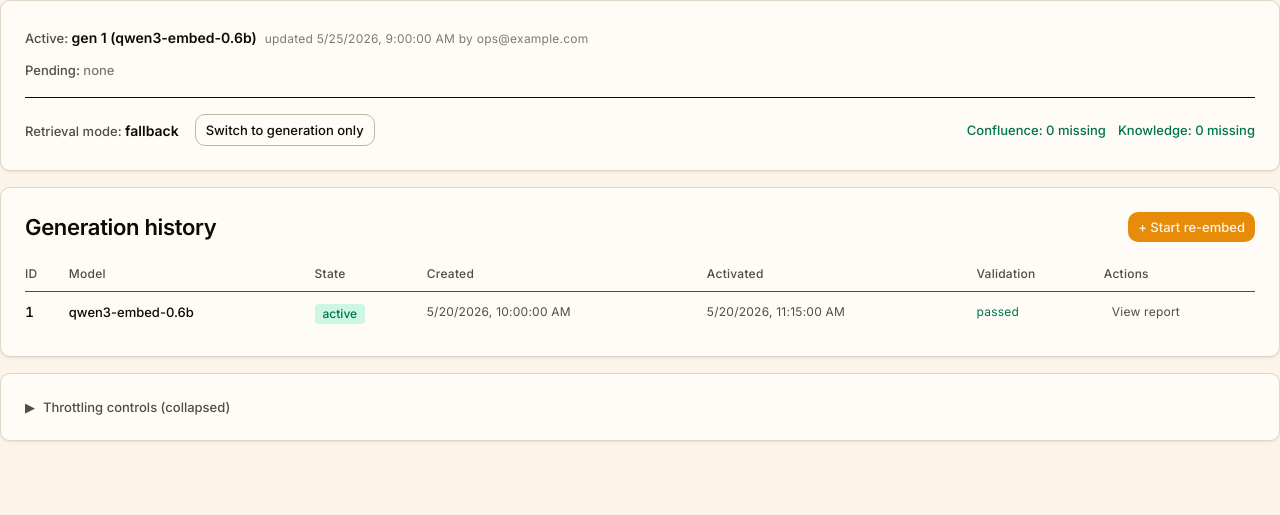
Test: EmbedderLifecyclePanel — retrieval-mode flip › Retrieval-mode flip succeeds when coverage gap=0
The width and height of the screenshot is (1280, 515).
Click the button with test id "retrieval-mode-flip-btn" at (285, 130), box [195,114,375,146]
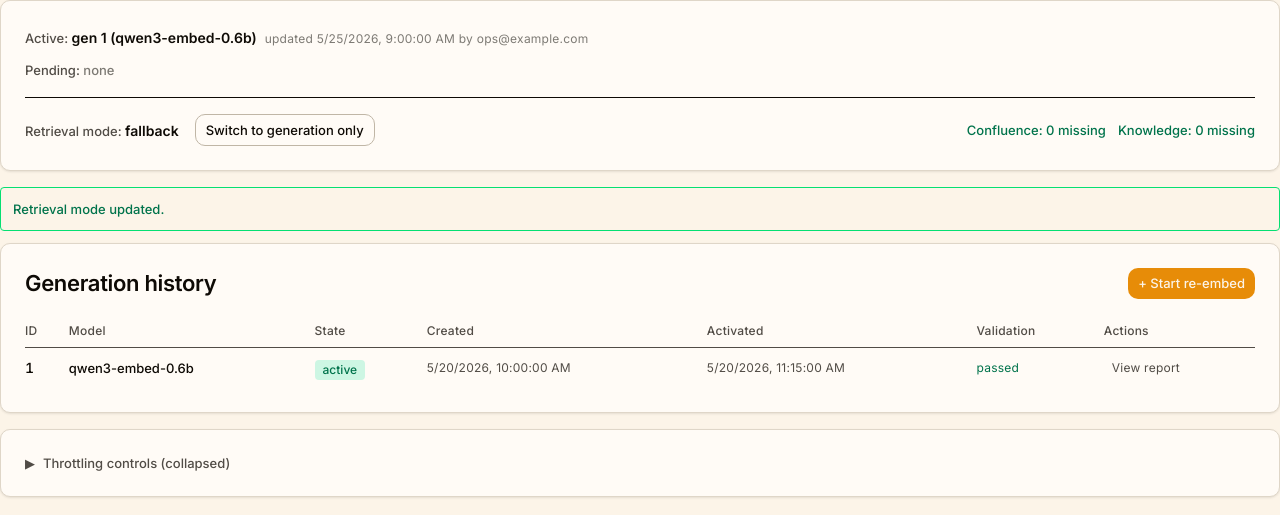
Now the message "Retrieval mode updated." is shown, box [0,187,1279,231]
